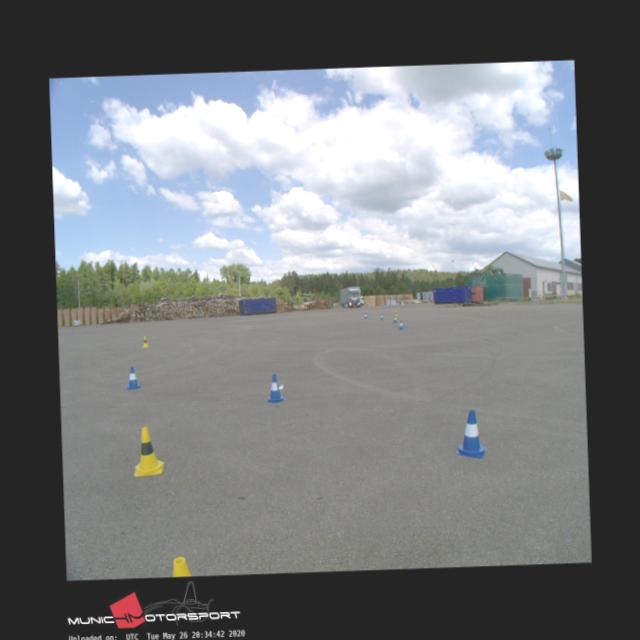blue_cone: (454, 409, 486, 458), (264, 373, 285, 401), (125, 366, 141, 388), (398, 320, 403, 330), (379, 312, 384, 320), (392, 315, 397, 322), (363, 312, 368, 318)
yellow_cone: (131, 426, 164, 474), (140, 335, 148, 347), (394, 310, 398, 316)
